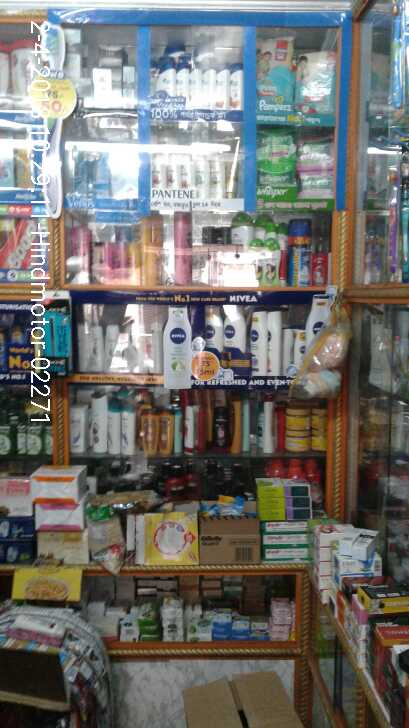venus: (74, 150, 108, 197)
